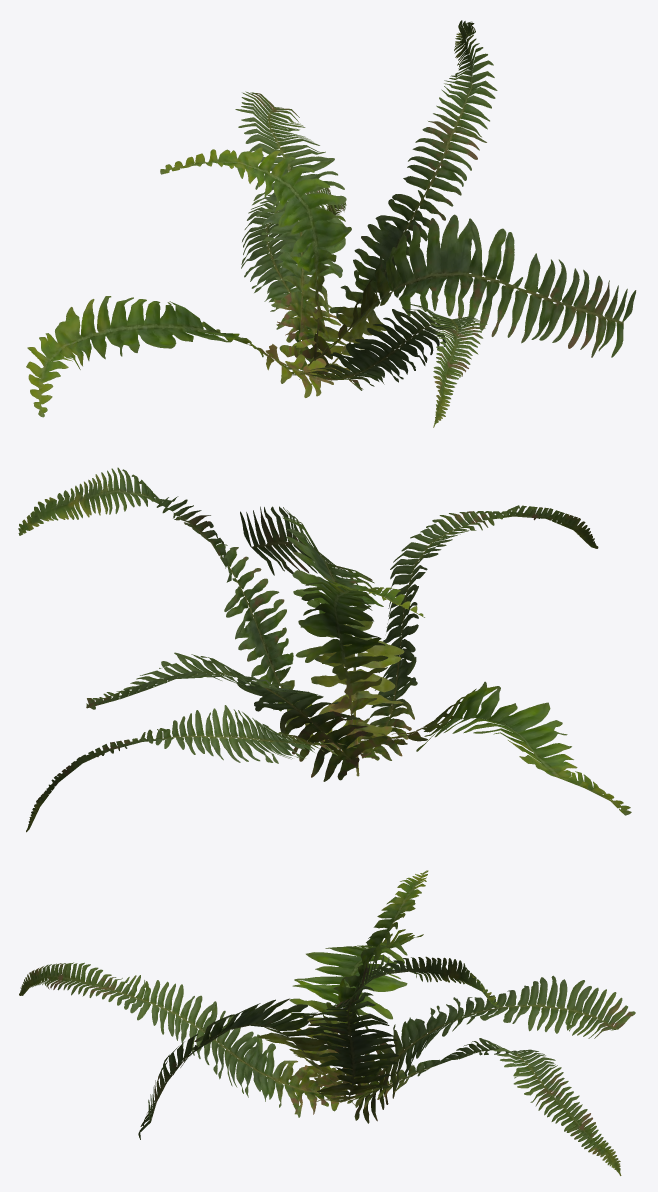
Rendered from fern_02_a.glb.
3 renders of one model, top to bottom at view 1: azimuth 30°, elevation 25°; view 2: azimuth 150°, elevation 25°; view 3: azimuth 270°, elevation 25°, orthographic. The views are drawn at different scales.
Visible parts, largest first — view 1: fern_02_a__lod0; view 2: fern_02_a__lod0; view 3: fern_02_a__lod0.
Part boxes in pixels (x1,y1,x2,y2): fern_02_a__lod0: [26, 20, 636, 427]; fern_02_a__lod0: [18, 467, 631, 832]; fern_02_a__lod0: [19, 870, 635, 1175].
Size of the model in its own units: 0.5519 by 0.2868 by 0.6134.
1 material, 1 textured.
